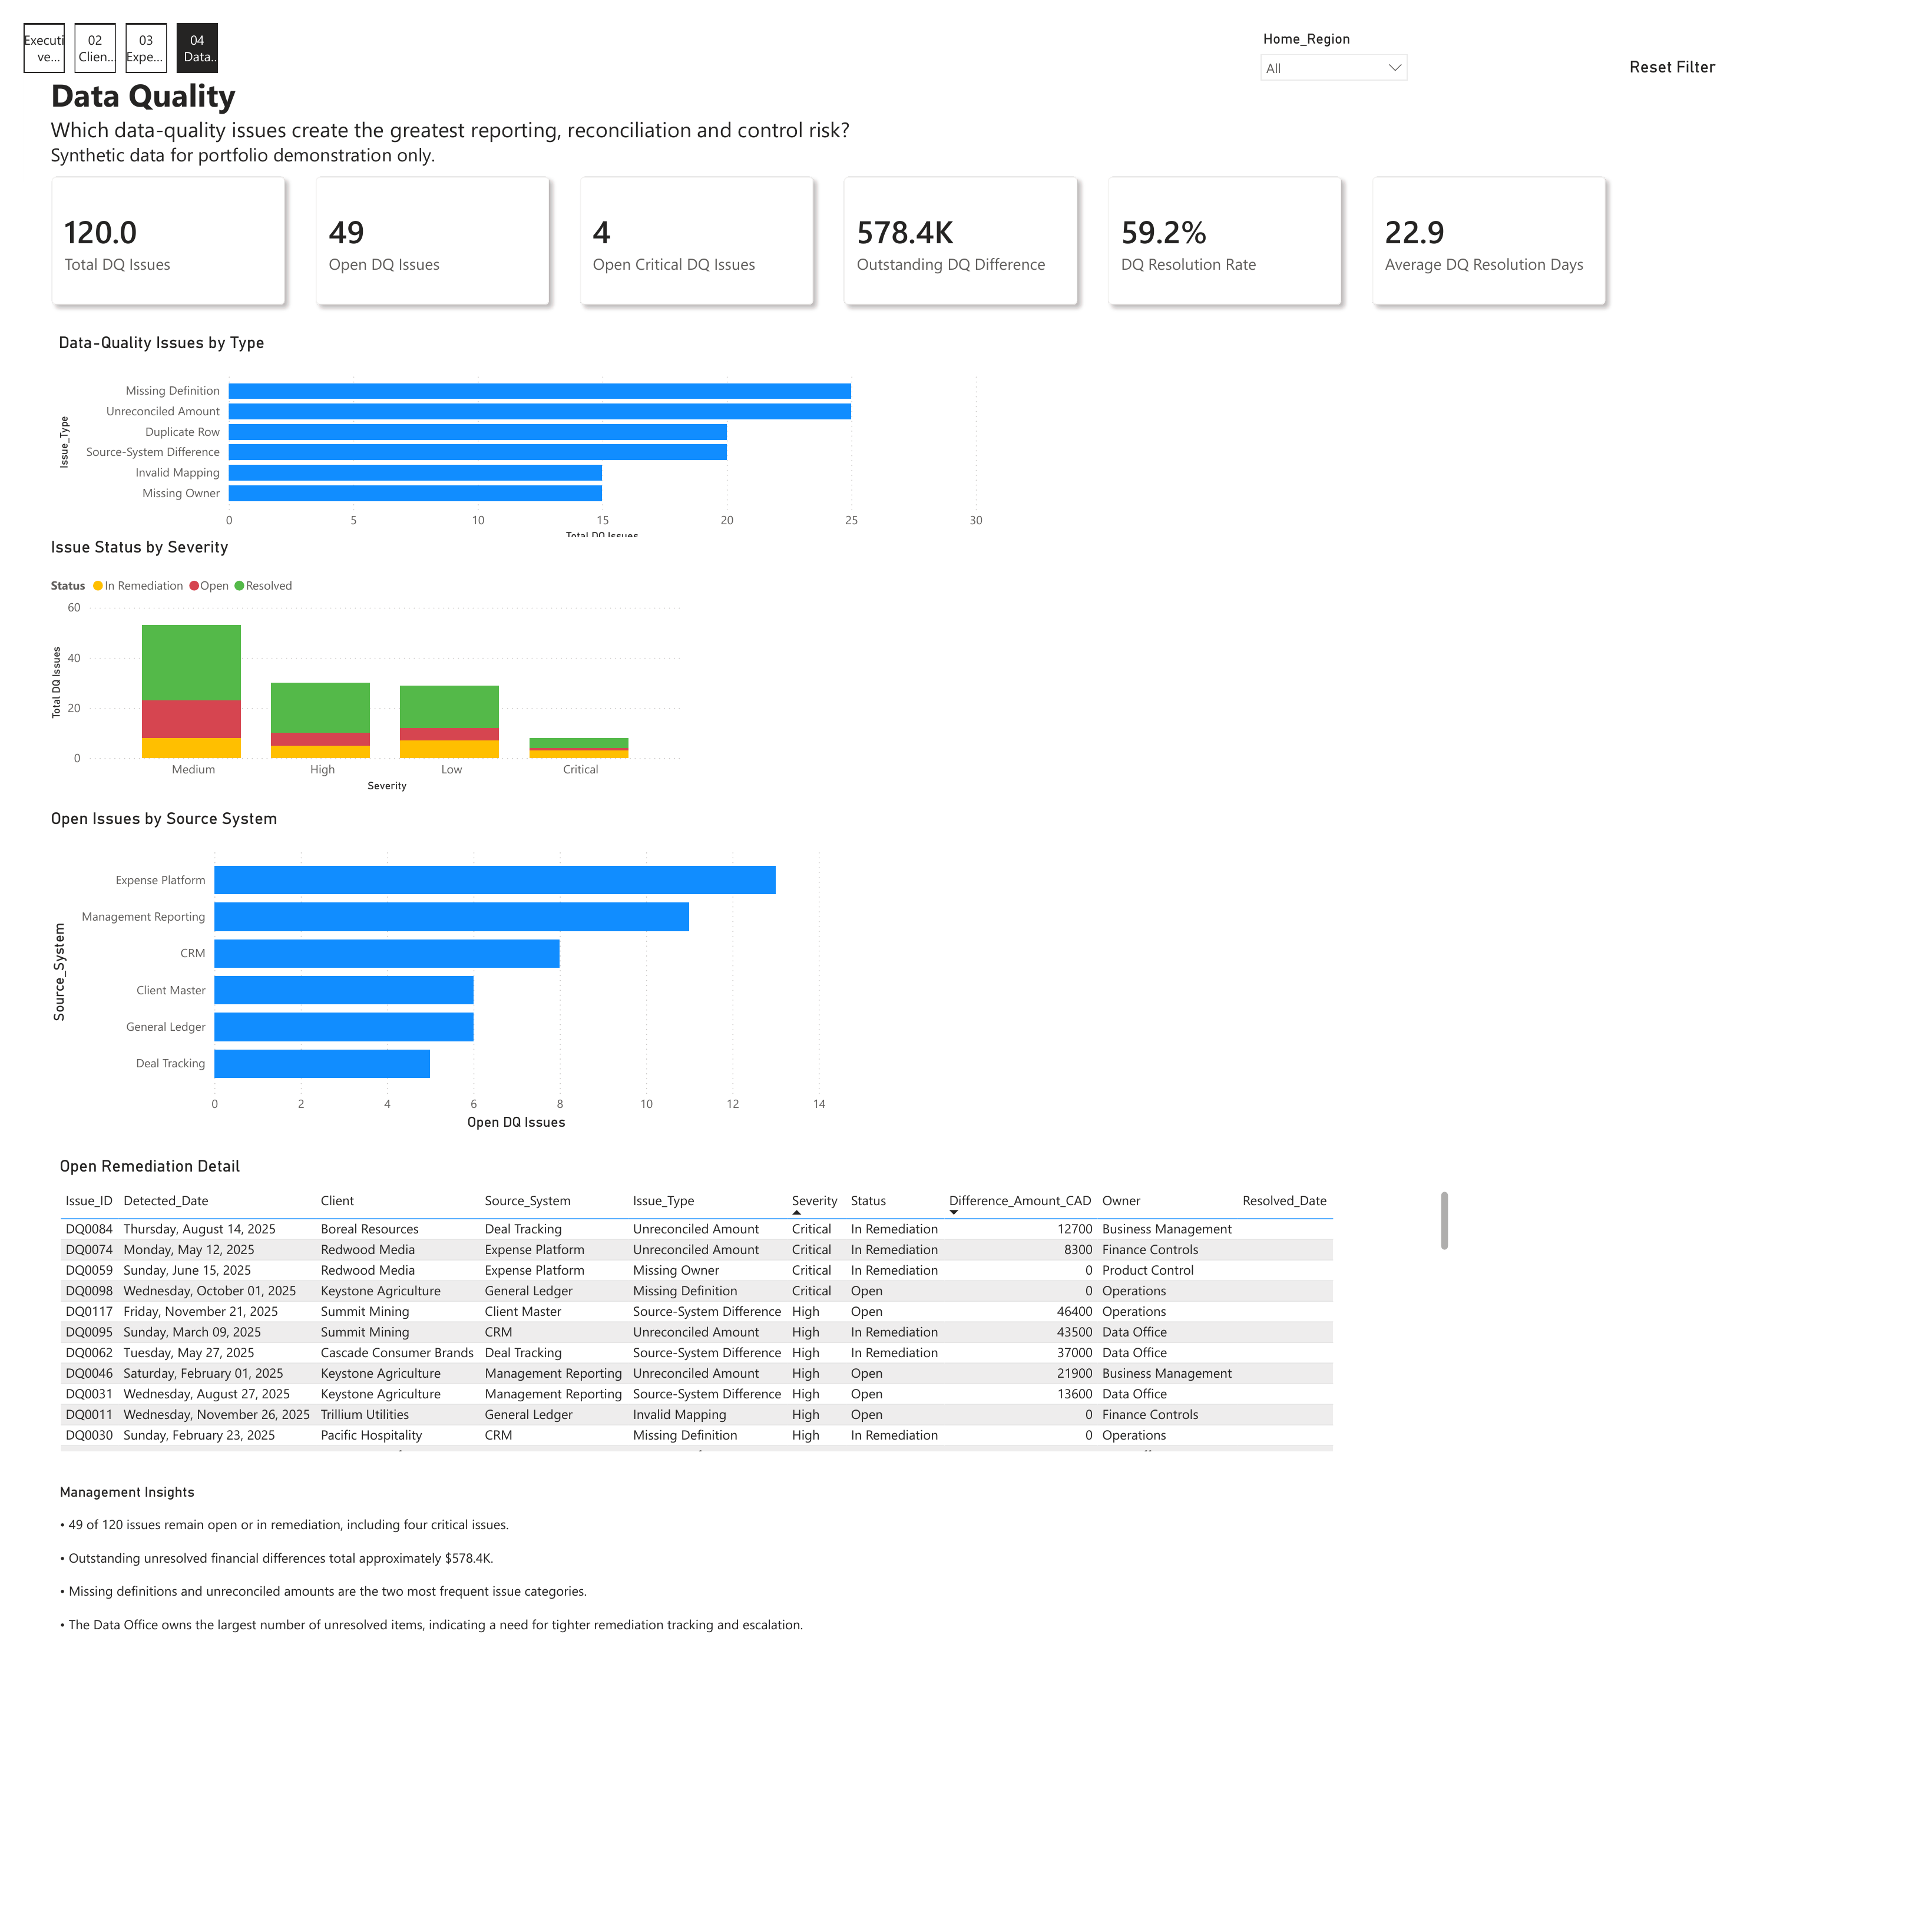

Layout of this report page (visuals, bound fields, positions):
{"tool":"powerbi","page":{"name":"04 Data Quality","canvas":[1920,1920],"ordinal":3},"visuals":[{"type":"cardVisual","fields":{"Data":["Fact_DQ_Log.Total DQ Issues","Fact_DQ_Log.Open DQ Issues","Fact_DQ_Log.Open Critical DQ Issues","Fact_DQ_Log.Outstanding DQ Difference","Fact_DQ_Log.DQ Resolution Rate","Fact_DQ_Log.Average DQ Resolution Days"]},"box":[0,127,1644,188],"z":0},{"type":"textbox","box":[22.5,45,1257.5,108.8],"z":1000},{"type":"slicer","fields":{"Values":["Dim_Client.Home_Region"]},"box":[1250,3.3,170,150],"z":2000},{"type":"textbox","title":"Management Insights","box":[32,1488,1364,180],"z":4000},{"type":"actionButton","title":"Reset Filter","box":[1636.2,33.8,111.2,21.2],"z":5000},{"type":"pageNavigator","box":[0,0,200,50],"z":6000},{"type":"clusteredBarChart","title":"Data-Quality Issues by Type","fields":{"Category":["Fact_DQ_Log.Issue_Type"],"Y":["Fact_DQ_Log.Total DQ Issues"]},"box":[31,315,951,218],"z":7000},{"type":"columnChart","title":"Issue Status by Severity","fields":{"Category":["Fact_DQ_Log.Severity"],"Series":["Fact_DQ_Log.Status"],"Y":["Fact_DQ_Log.Total DQ Issues"]},"box":[23.3,523.3,655,263.3],"z":8000},{"type":"clusteredBarChart","title":"Open Issues by Source System","fields":{"Category":["Fact_DQ_Log.Source_System"],"Y":["Fact_DQ_Log.Open DQ Issues"]},"box":[23.3,800,798.3,331.7],"z":9000},{"type":"tableEx","title":"Open Remediation Detail","fields":{"Values":["Fact_DQ_Log.Issue_ID","Fact_DQ_Log.Detected_Date","Dim_Client.Client","Fact_DQ_Log.Source_System","Fact_DQ_Log.Issue_Type","Fact_DQ_Log.Severity","Fact_DQ_Log.Status","Fact_DQ_Log.Difference_Amount_CAD","Fact_DQ_Log.Owner","Fact_DQ_Log.Resolved_Date"]},"box":[32,1154,1425,305],"z":10000}]}

Visuals, with their boxes in screenshot pixels (x1, y1, x2, y2), scaled from the page's 1920x1920 canvas onto the 1932x1932 screenshot:
cardVisual - Fact_DQ_Log.Total DQ Issues x Fact_DQ_Log.Open DQ Issues: bbox=[0, 128, 1654, 317]
textbox: bbox=[22, 45, 1288, 155]
slicer - Dim_Client.Home_Region: bbox=[1258, 4, 1429, 154]
"Management Insights" textbox: bbox=[32, 1497, 1405, 1679]
"Reset Filter" actionButton: bbox=[1646, 34, 1758, 55]
pageNavigator: bbox=[0, 0, 201, 50]
"Data-Quality Issues by Type" clusteredBarChart: bbox=[31, 317, 988, 537]
"Issue Status by Severity" columnChart: bbox=[24, 527, 683, 792]
"Open Issues by Source System" clusteredBarChart: bbox=[24, 805, 827, 1139]
"Open Remediation Detail" tableEx: bbox=[32, 1161, 1466, 1468]
